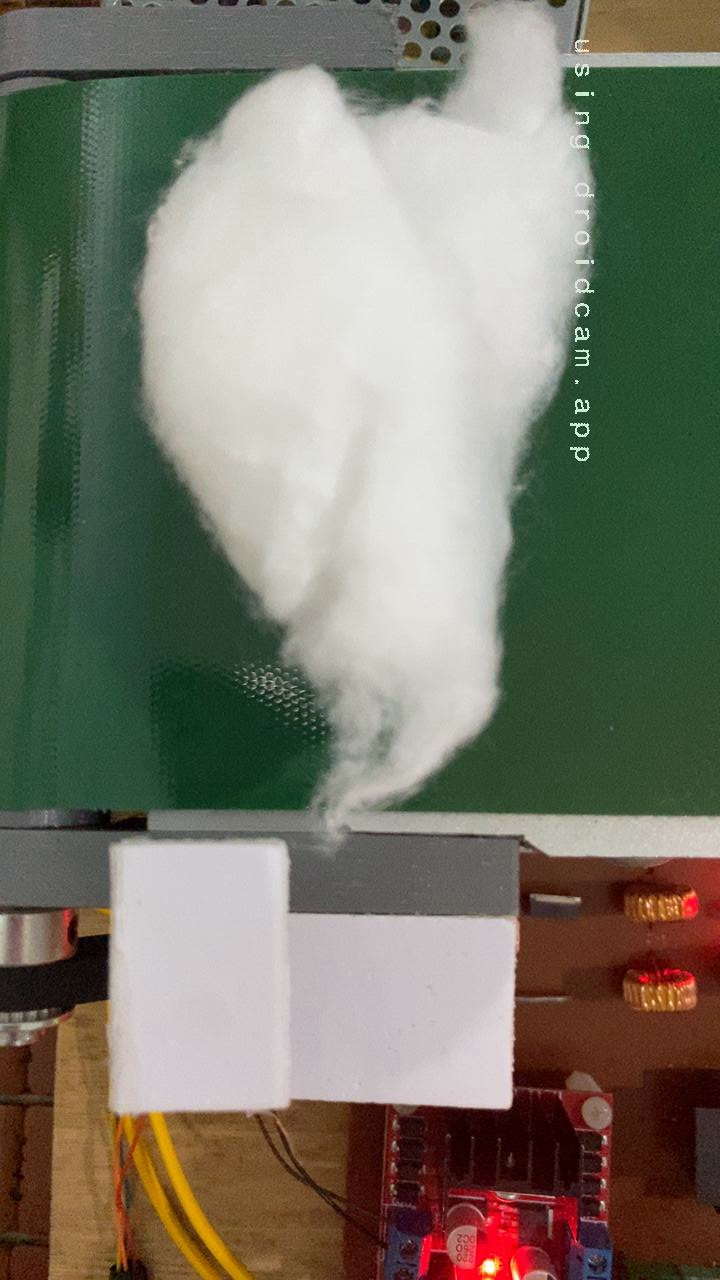cotton: (127, 70, 603, 811)
